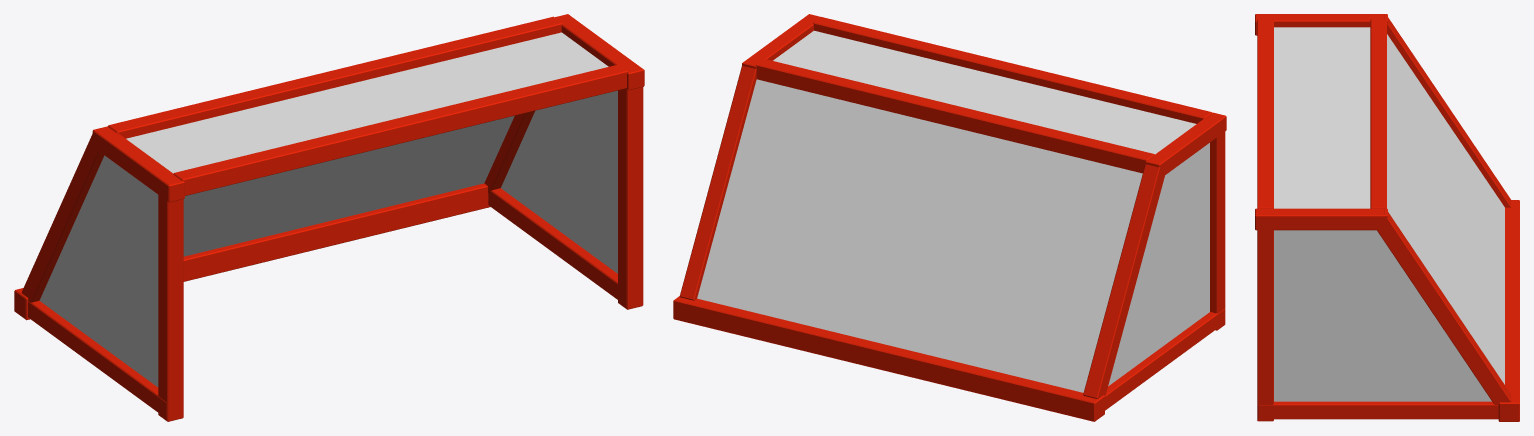
The model's file is SM_SoccerGoal.fbx.
The picture shows the model from 3 angles, left to right: view 1: azimuth 30°, elevation 25°; view 2: azimuth 150°, elevation 25°; view 3: azimuth 270°, elevation 25°; orthographic projection. The views are drawn at different scales.
Parts seen in each view (by area): view 1: Cube; view 2: Cube; view 3: Cube.
Boxes of the visible parts, bbox=[...] form: Cube: bbox=[14, 14, 644, 421]; Cube: bbox=[673, 14, 1226, 421]; Cube: bbox=[1255, 14, 1519, 421].
Size of the model in its own units: 794 by 377 by 437.
